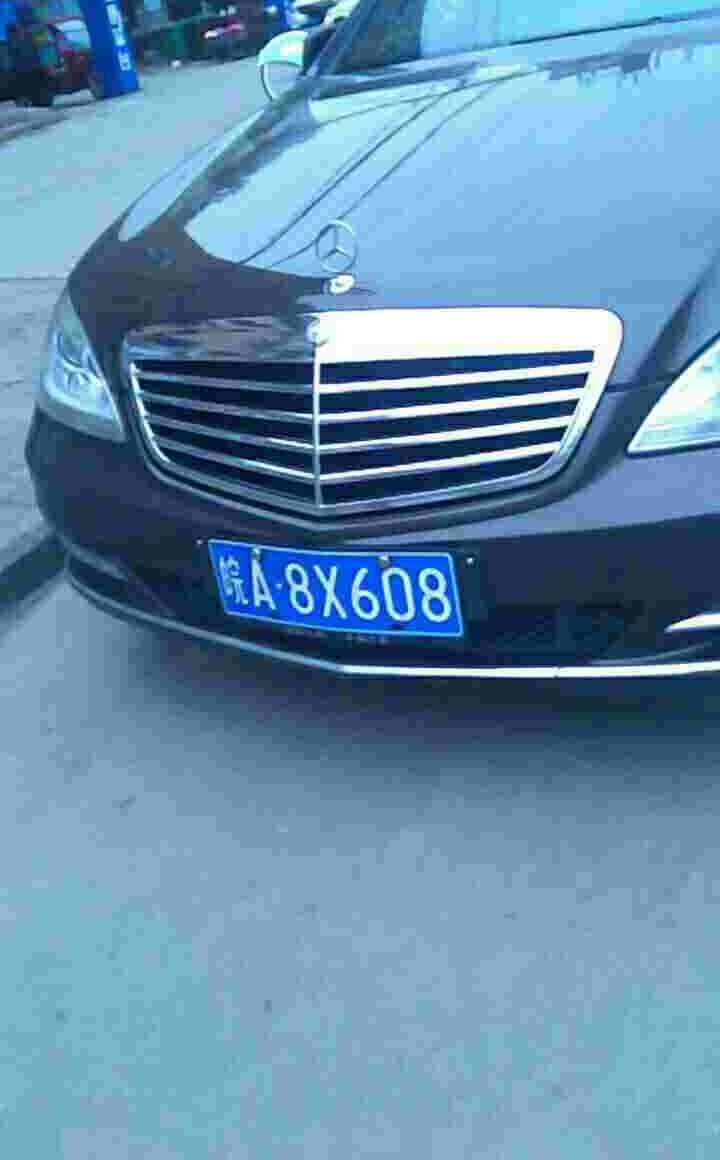license_plate: (198, 539, 458, 631)
